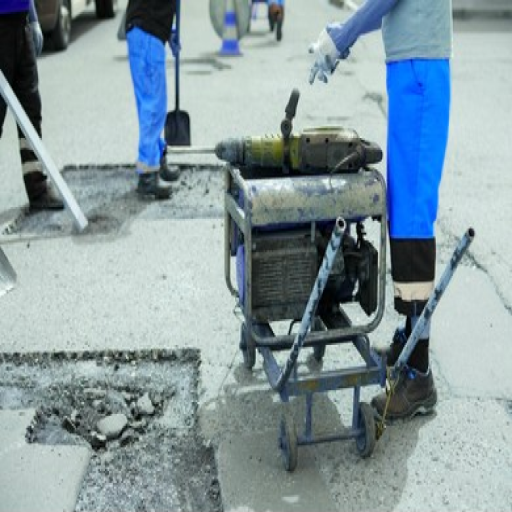portable_generator: (224, 163, 388, 348)
